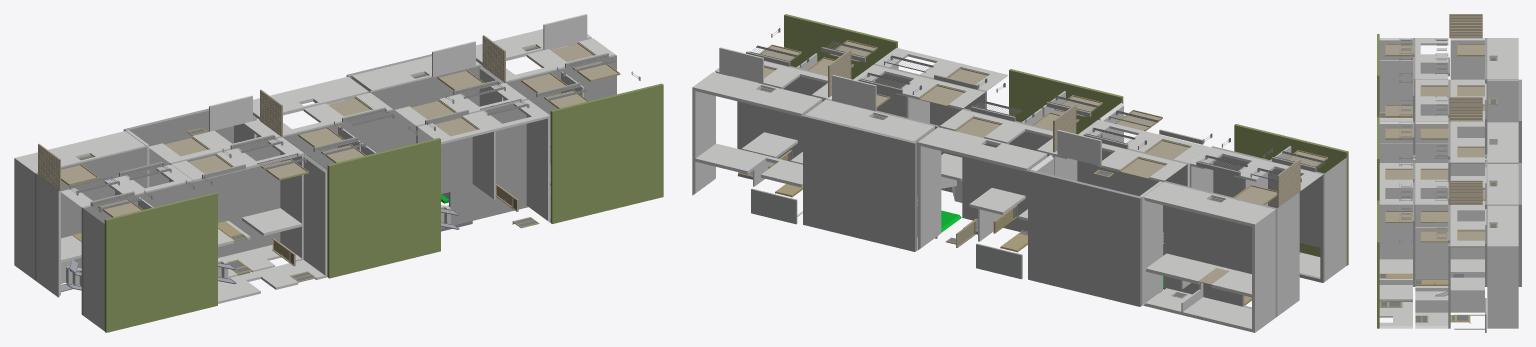
The picture shows the model from 3 angles, left to right: view 1: azimuth 30°, elevation 25°; view 2: azimuth 150°, elevation 25°; view 3: azimuth 270°, elevation 25°; orthographic projection. The views are drawn at different scales.
Parts seen in each view (by area): view 1: Dach-1, Dach-5, Dach-3, AC-11-Smiley-West-04-07-2007-0, Boden-2OG-4, Boden-1OG-2, Boden-EG-1, EG-A-1-1, Boden-EG-4, 2OG-A-2-3, 2OG-A-1-1, 2OG-A-4-3 (+38 smaller); view 2: Boden-Keller-2, Boden-Keller-4, Boden-EG-1, AC-11-Smiley-West-04-07-2007-0, Boden-1OG-3, Boden-2OG-1, Dach-5, Dach-3, Dach-1, Boden-1OG-5, Keller-A-1-1, Keller-A-3-2 (+37 smaller); view 3: AC-11-Smiley-West-04-07-2007-0, Keller-A-5-3, 2OG-A-4-3, 2OG-I-1-3, 1OG-I-5-3, Keller-A-5-2, Keller-A-2-1, Keller-A-3-2, Keller-A-4-2, Keller-A-1-2, 2OG-I-5-1, EG-A-1-1 (+54 smaller).
Boxes of the visible parts, x1=… form: Dach-1: x1=104, y1=192, x2=217, y2=332; Dach-5: x1=550, y1=83, x2=663, y2=223; Dach-3: x1=327, y1=138, x2=440, y2=278; AC-11-Smiley-West-04-07-2007-0: x1=38, y1=35, x2=640, y2=291; Boden-2OG-4: x1=416, y1=99, x2=528, y2=228; Boden-1OG-2: x1=170, y1=136, x2=282, y2=257; Boden-EG-1: x1=35, y1=146, x2=147, y2=280; EG-A-1-1: x1=36, y1=174, x2=60, y2=297; Boden-EG-4: x1=369, y1=64, x2=481, y2=148; 2OG-A-2-3: x1=303, y1=154, x2=327, y2=276; 2OG-A-1-1: x1=83, y1=208, x2=104, y2=330; 2OG-A-4-3: x1=526, y1=115, x2=550, y2=222; Boden-Keller-2: x1=1028, y1=169, x2=1142, y2=306; Boden-Keller-4: x1=803, y1=114, x2=917, y2=251; Boden-EG-1: x1=1163, y1=181, x2=1277, y2=317; AC-11-Smiley-West-04-07-2007-0: x1=749, y1=28, x2=1324, y2=255; Boden-1OG-3: x1=962, y1=108, x2=1052, y2=231; Boden-2OG-1: x1=1211, y1=146, x2=1324, y2=282; Dach-5: x1=784, y1=14, x2=897, y2=79; Dach-3: x1=1009, y1=69, x2=1123, y2=134; Dach-1: x1=1234, y1=124, x2=1348, y2=265; Boden-1OG-5: x1=737, y1=60, x2=827, y2=158; Keller-A-1-1: x1=1252, y1=208, x2=1275, y2=332; Keller-A-3-2: x1=918, y1=127, x2=1047, y2=171; AC-11-Smiley-West-04-07-2007-0: x1=1399, y1=14, x2=1487, y2=296; Keller-A-5-3: x1=1487, y1=246, x2=1518, y2=328; 2OG-A-4-3: x1=1379, y1=204, x2=1412, y2=284; 2OG-I-1-3: x1=1379, y1=60, x2=1412, y2=112; 1OG-I-5-3: x1=1415, y1=227, x2=1448, y2=279; Keller-A-5-2: x1=1487, y1=205, x2=1518, y2=246; Keller-A-2-1: x1=1487, y1=79, x2=1518, y2=120; Keller-A-3-2: x1=1487, y1=122, x2=1518, y2=162; Keller-A-4-2: x1=1487, y1=164, x2=1518, y2=204; Keller-A-1-2: x1=1487, y1=39, x2=1518, y2=79; 2OG-I-5-1: x1=1379, y1=259, x2=1412, y2=301; EG-A-1-1: x1=1450, y1=38, x2=1484, y2=79.
Size of the model in its own units: 37.51 by 10.62 by 11.01.
